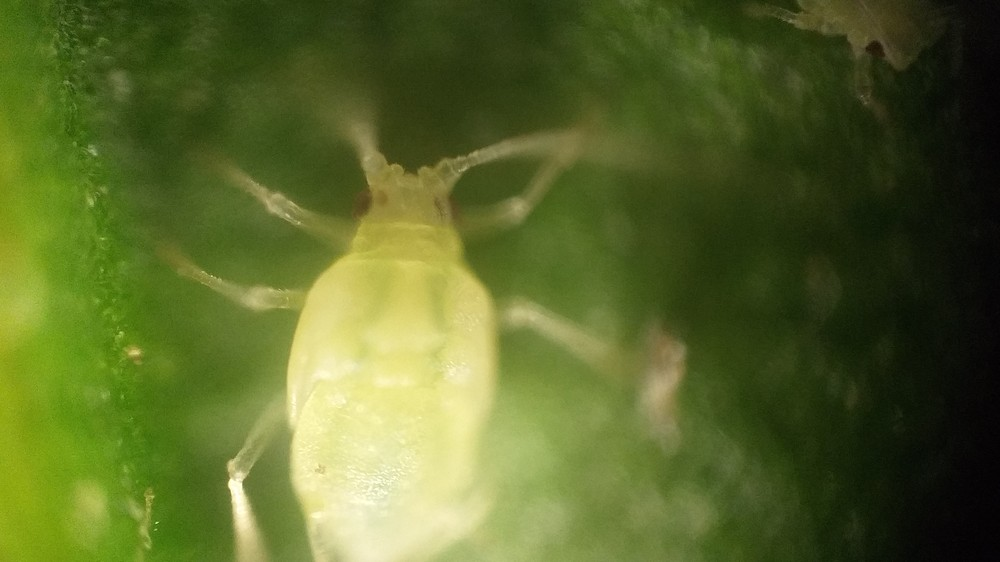Pulgon: (133, 82, 630, 561)
